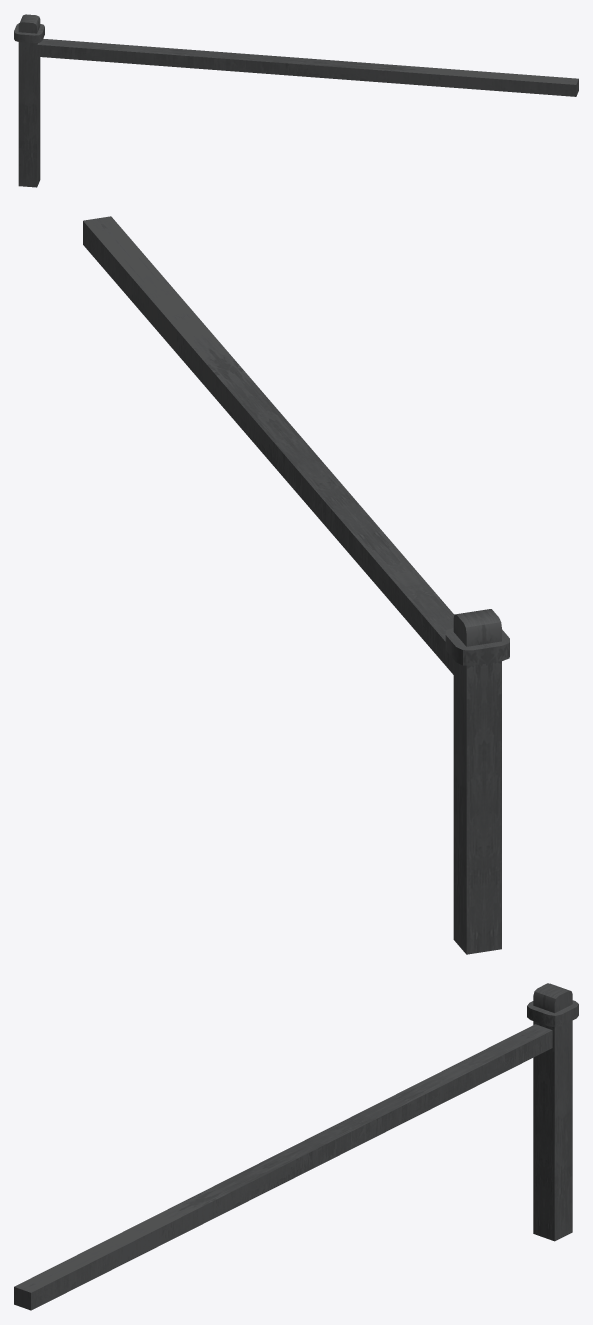
3 views of the same model, one above another, from view 1: azimuth 30°, elevation 25°; view 2: azimuth 150°, elevation 25°; view 3: azimuth 270°, elevation 25° (orthographic). The views are drawn at different scales.
Visible parts, largest first — view 1: Cube045_metal3_0; view 2: Cube045_metal3_0; view 3: Cube045_metal3_0.
Boxes of the visible parts, box(x1,y1,x2,y2) form: Cube045_metal3_0: box(14, 14, 578, 187); Cube045_metal3_0: box(83, 216, 509, 954); Cube045_metal3_0: box(14, 983, 578, 1310).
Bounding box in the file's own units: 2.38 × 0.96 × 2.02.
1 material, 1 textured.
